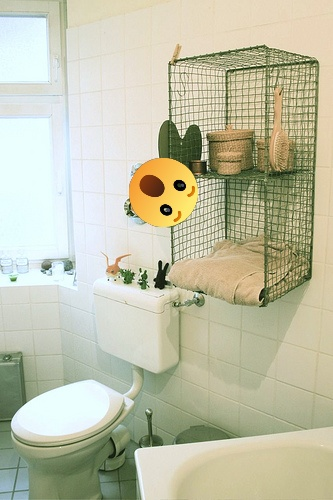wow: (129, 158, 198, 227)
